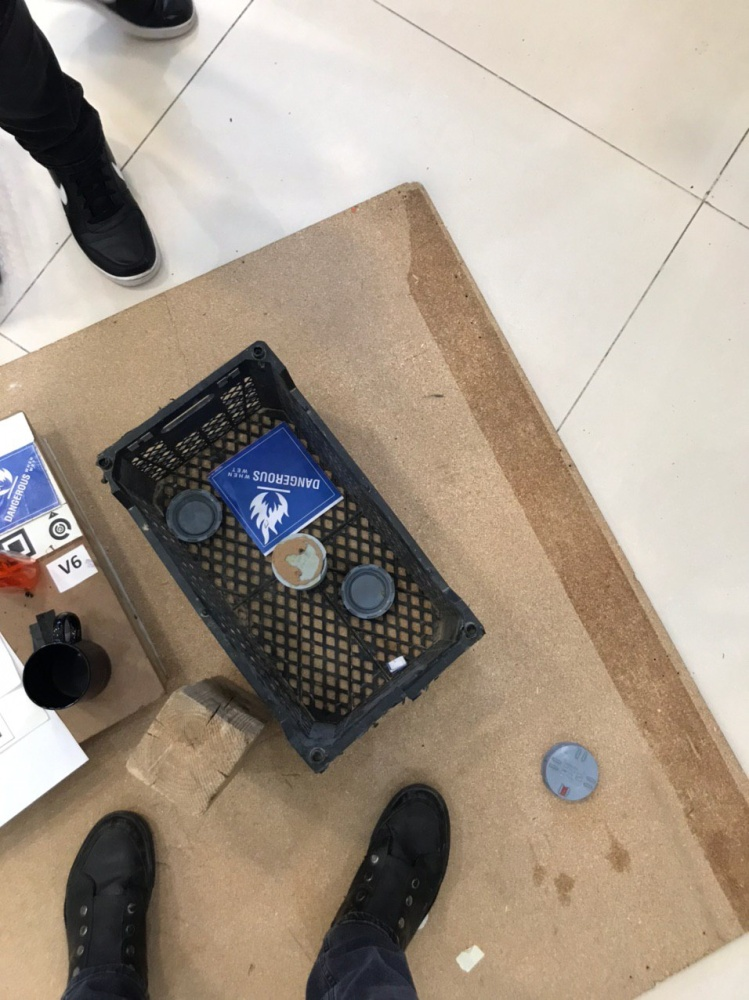Dangerous when wet: (207, 422, 344, 556), (1, 442, 61, 534)
